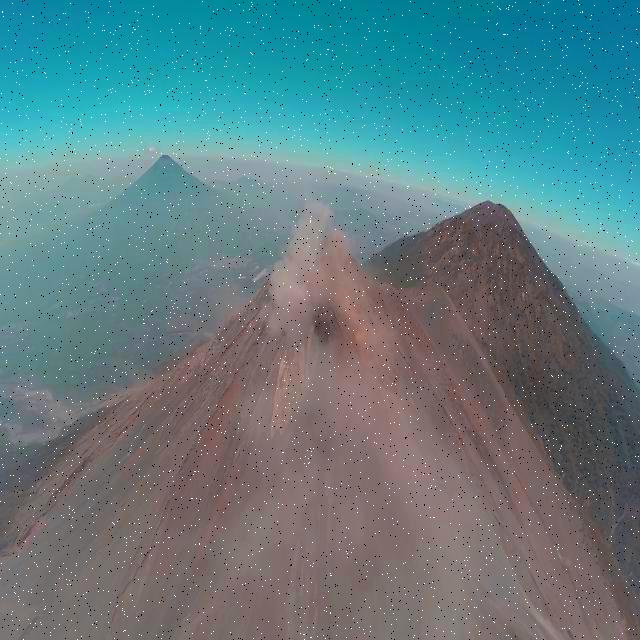Plume: (263, 198, 353, 367)
